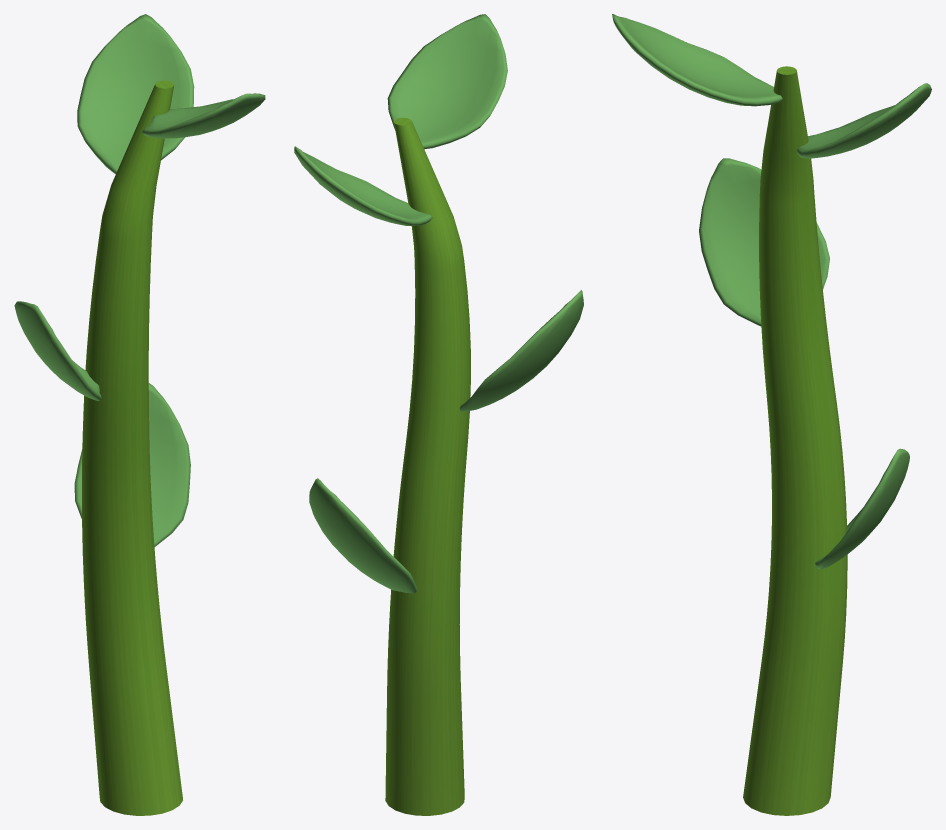
File: OrchidStage1.1.fbx
The picture shows the model from 3 angles, left to right: view 1: azimuth 30°, elevation 25°; view 2: azimuth 150°, elevation 25°; view 3: azimuth 270°, elevation 25°; orthographic projection. The views are drawn at different scales.
Visible parts, largest first — view 1: pCylinder2, pPlane2, pPlane4, pPlane1, pPlane3; view 2: pCylinder2, pPlane1, pPlane4, pPlane3, pPlane2; view 3: pCylinder2, pPlane3, pPlane1, pPlane2, pPlane4.
Part boxes in pixels (x1,y1,x2,y2): pCylinder2: (82,80,182,815); pPlane2: (77,14,194,174); pPlane4: (74,383,190,546); pPlane1: (142,93,265,138); pPlane3: (14,301,101,401); pCylinder2: (385,117,470,815); pPlane1: (387,14,507,149); pPlane4: (309,478,417,593); pPlane3: (459,290,583,411); pPlane2: (294,146,432,225); pCylinder2: (743,66,847,815); pPlane3: (699,158,829,326); pPlane1: (612,14,782,106); pPlane2: (797,83,931,158); pPlane4: (815,448,909,569).
Bounding box in the file's own units: 0.4134 × 1.35 × 0.4943.
2 materials, 1 textured.
